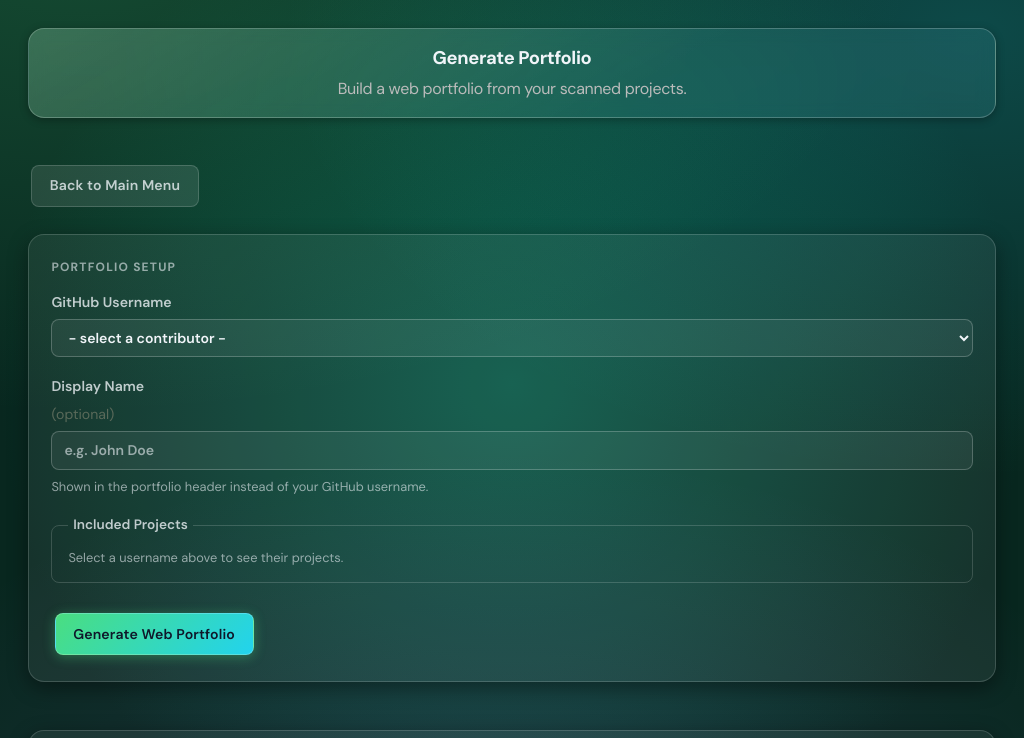
PortfolioPage › shows error when too many projects are excluded
This screenshot has width=1024, height=738.
Expected: the button "Generate Web Portfolio" is shown, [55,613,254,655]
Select "alice" in the dropdown at point(512, 338), box [51,319,973,357]
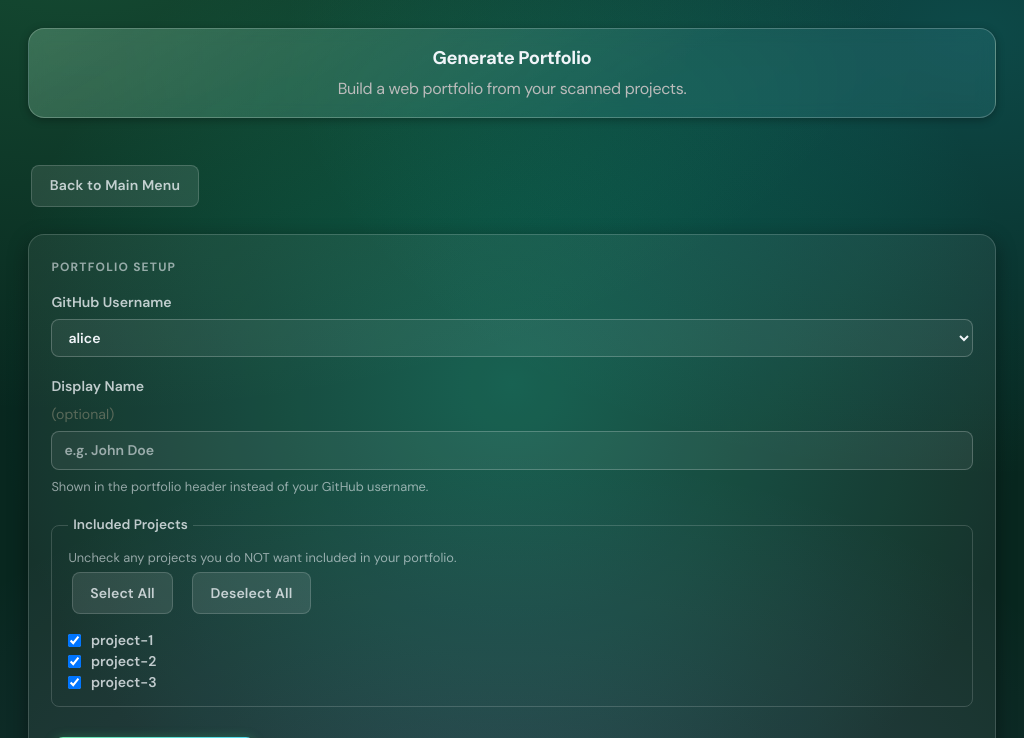
Click the checkbox labelled "project-1" at point(75, 640), box [68,634,81,647]
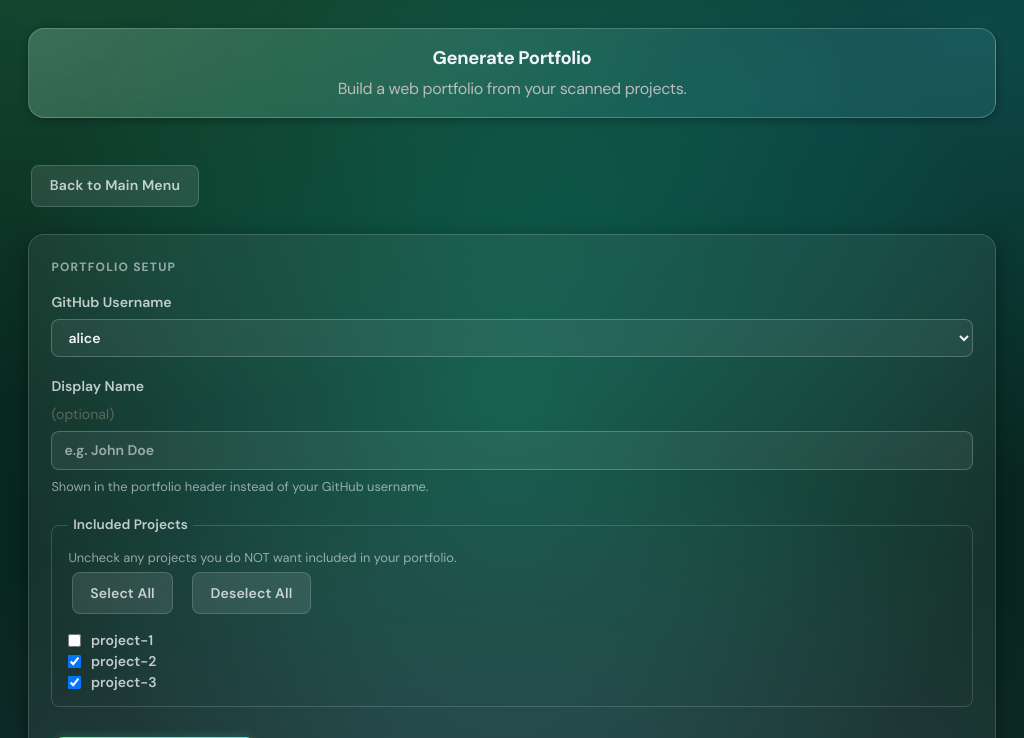
Click the checkbox labelled "project-2" at point(75, 661), box [68,655,81,668]
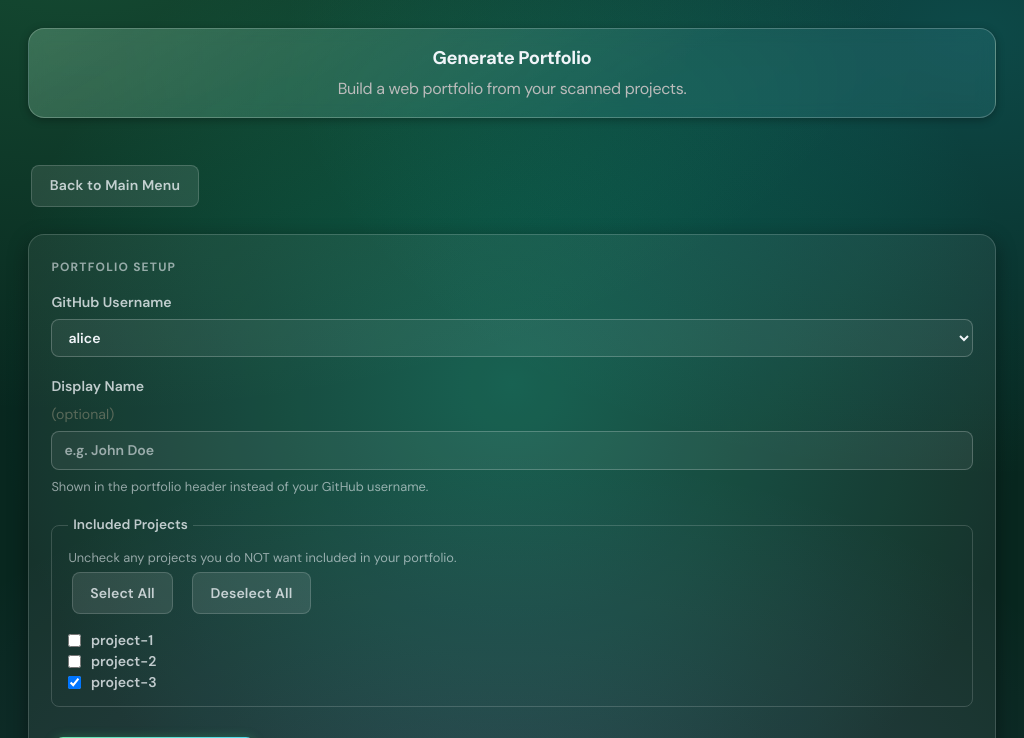
Click the checkbox labelled "project-3" at point(75, 682), box [68,676,81,689]
(page scrolled)
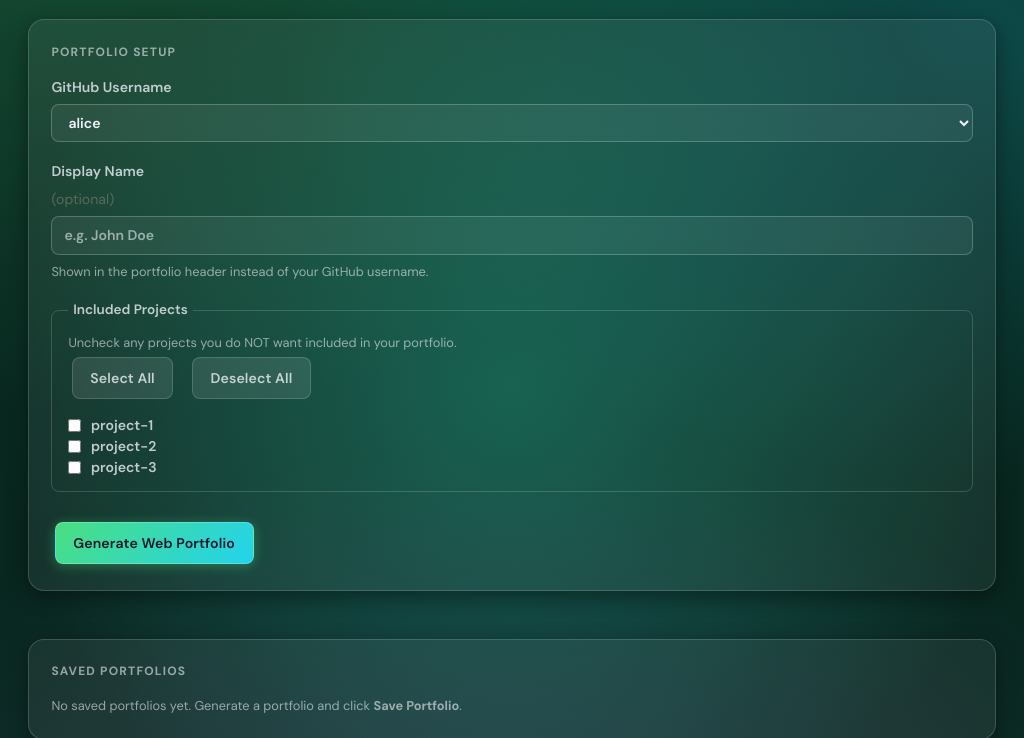
Click the button "Generate Web Portfolio" at point(154, 543), box [55,522,254,564]
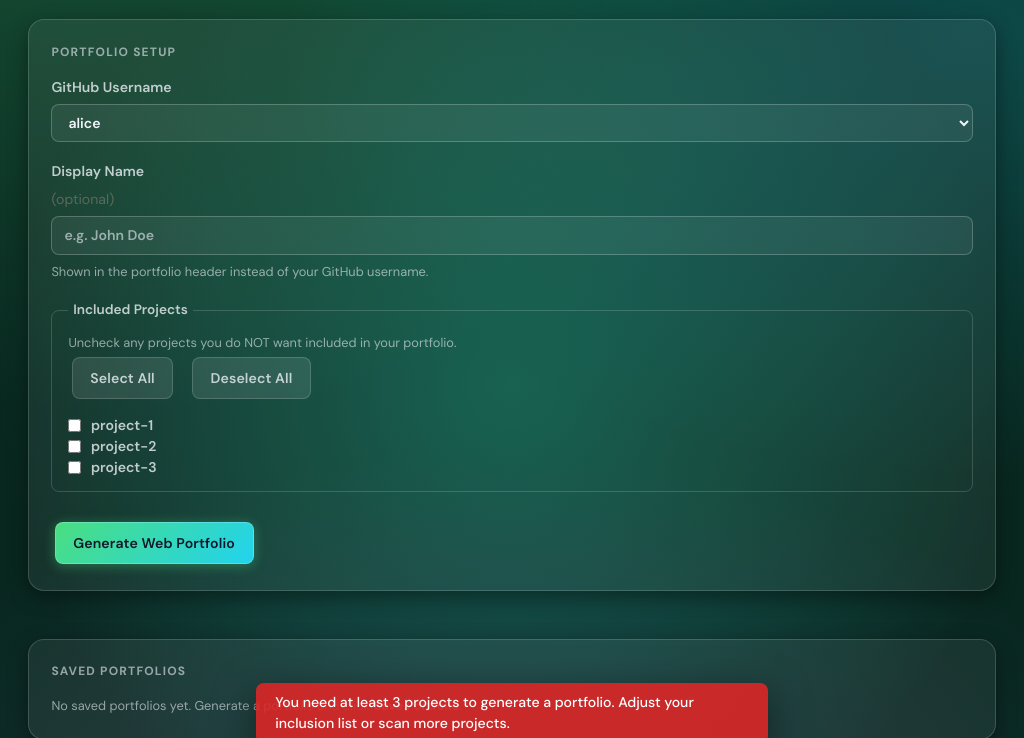
Now the text "at least 3 projects" is shown, box [275,693,694,732]
